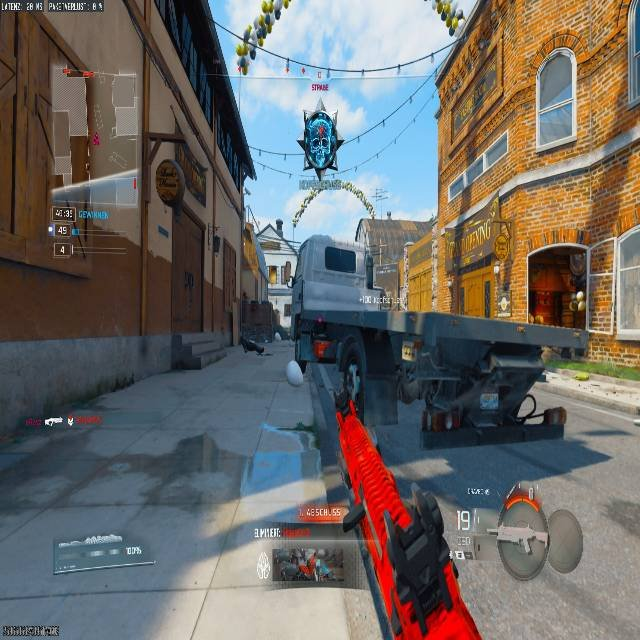player: (235, 0, 292, 75), (296, 104, 344, 180)
